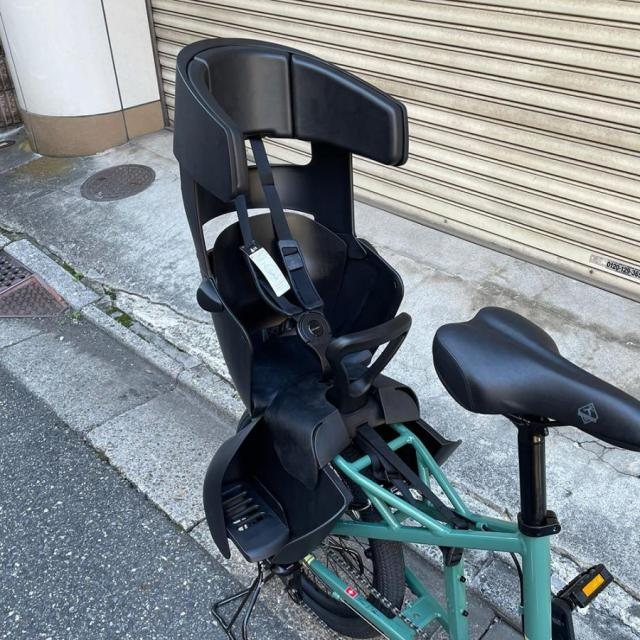childseat: (172, 37, 462, 572)
